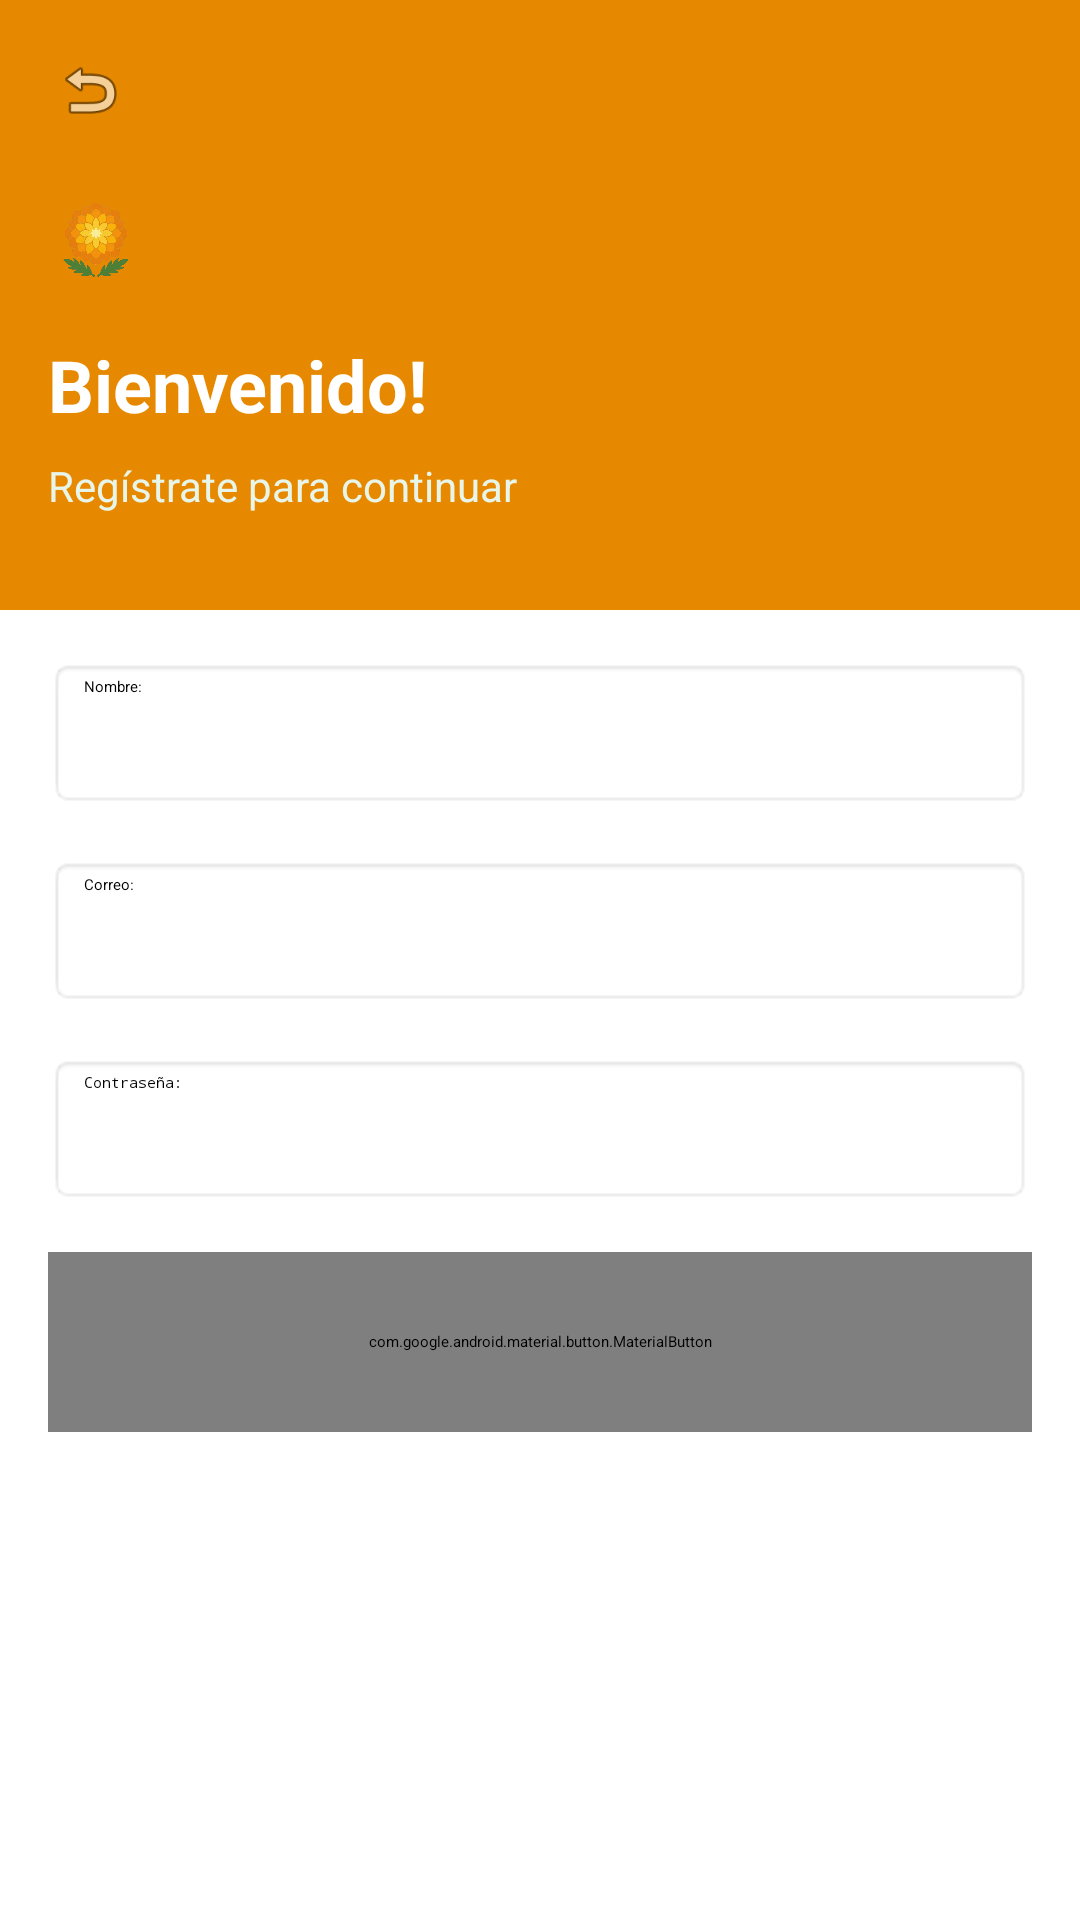

Where to tap for icons on this 1080px x 1920px app screen, as [x,y]:
flor: [96,240]
revert: [91,90]
